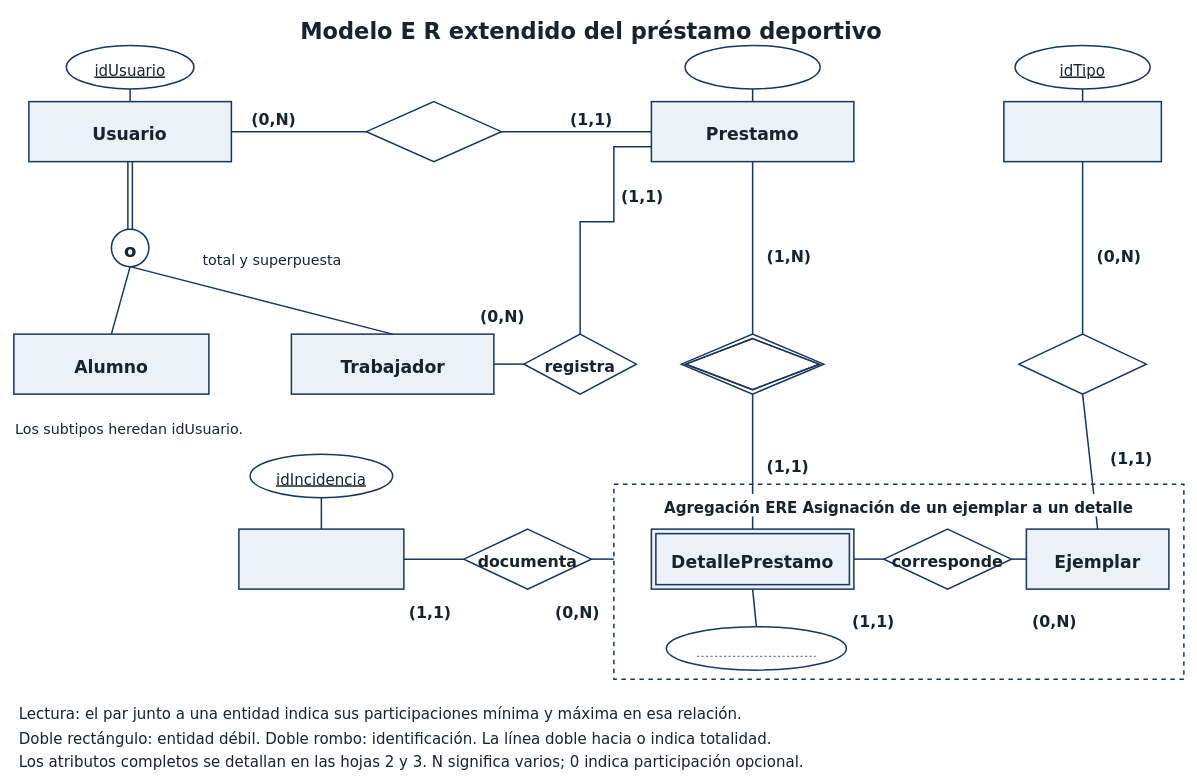
This 1197x784 diagram has some shape labels left out. Here are the shapes that lost their labels. From the top down, the centre of each, then its label:
At point (752, 66): "idPrestamo".
At point (433, 131): "solicita".
At point (1082, 131): "TipoMaterial".
At point (752, 364): "contiene".
At point (1082, 363): "clasifica".
At point (321, 559): "Incidencia".
At point (756, 648): "numeroRenglon".
